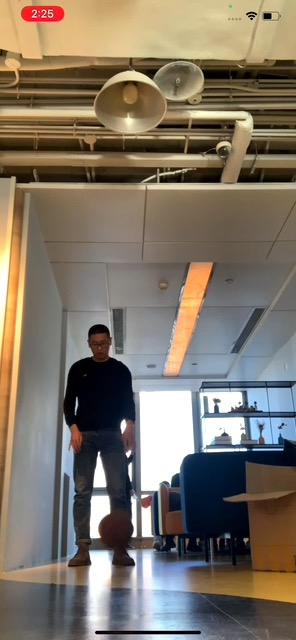ball: (99, 511, 133, 547)
